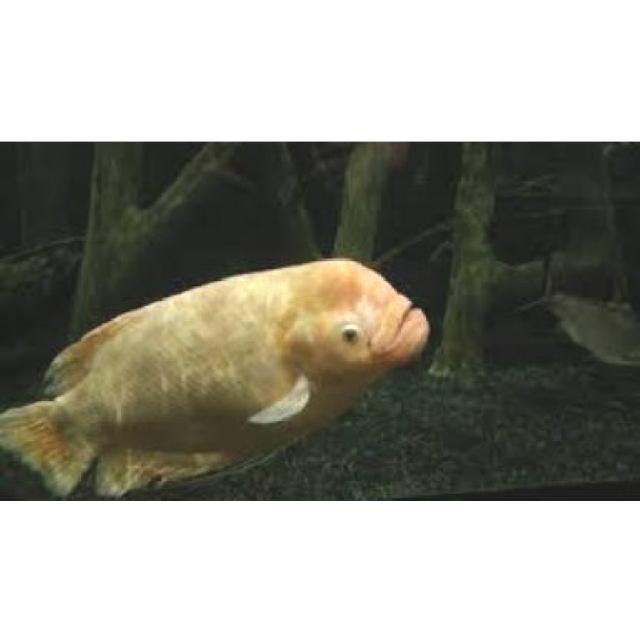gurame: (2, 256, 441, 498)
